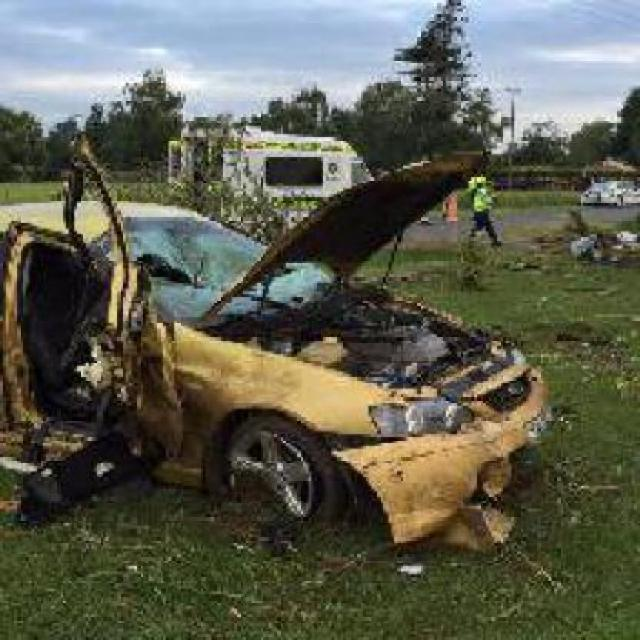damaged-door: (14, 227, 150, 453)
damaged-windscreen: (96, 208, 309, 318)
